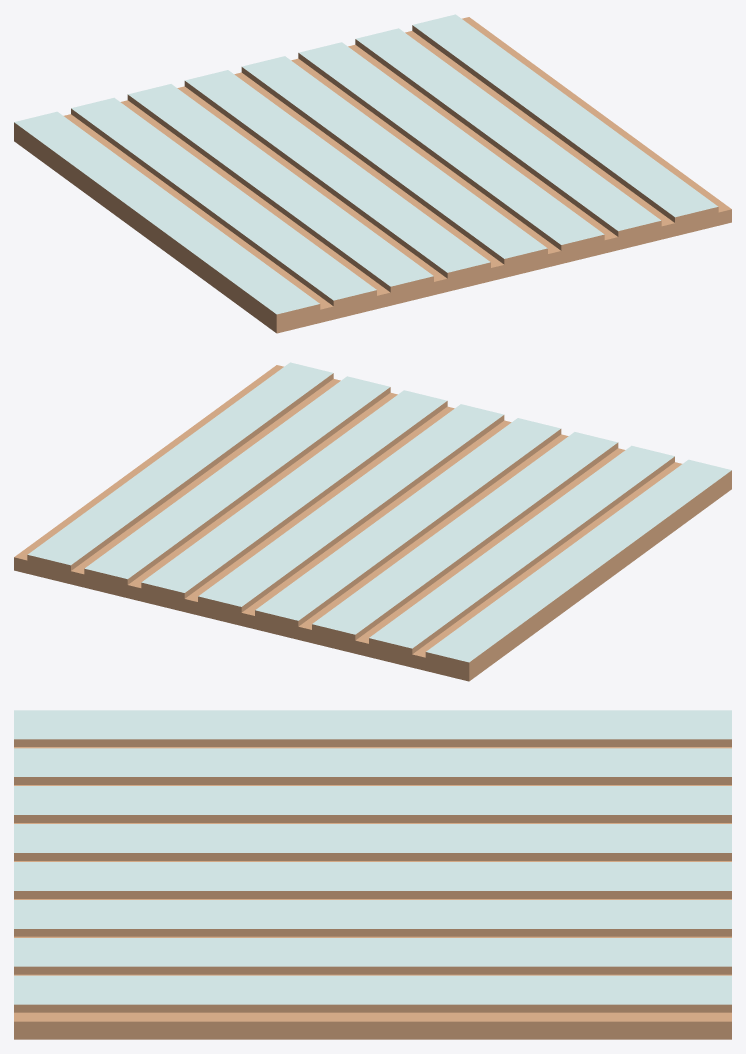
Rendered from cabinRoofFlat.glb.
3 views of the same model, one above another, from view 1: azimuth 30°, elevation 25°; view 2: azimuth 150°, elevation 25°; view 3: azimuth 270°, elevation 25° (orthographic). The views are drawn at different scales.
Visible parts, largest first — view 1: cabinRoofFlat; view 2: cabinRoofFlat; view 3: cabinRoofFlat.
Part boxes in pixels (x1,y1,x2,y2): cabinRoofFlat: [14, 14, 731, 333]; cabinRoofFlat: [14, 362, 731, 681]; cabinRoofFlat: [14, 710, 731, 1039].
Bounding box in the file's own units: 1 × 0.04 × 1.
